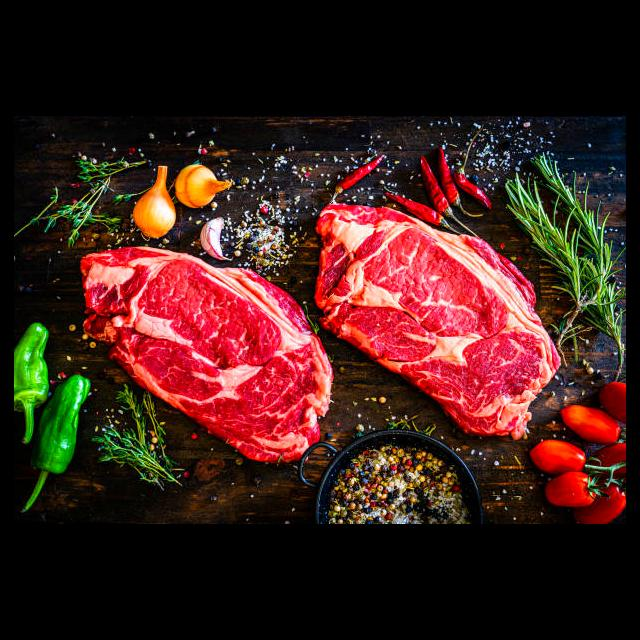beef: (314, 202, 563, 443), (78, 245, 334, 468)
